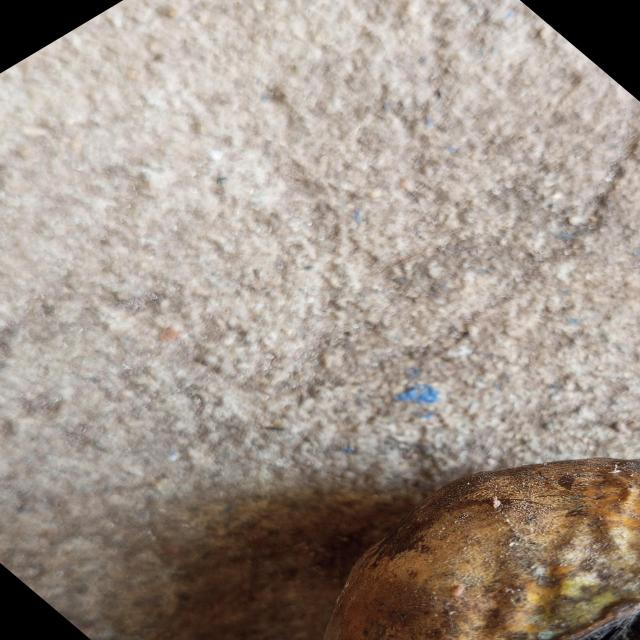damaged: (322, 459, 640, 640)
